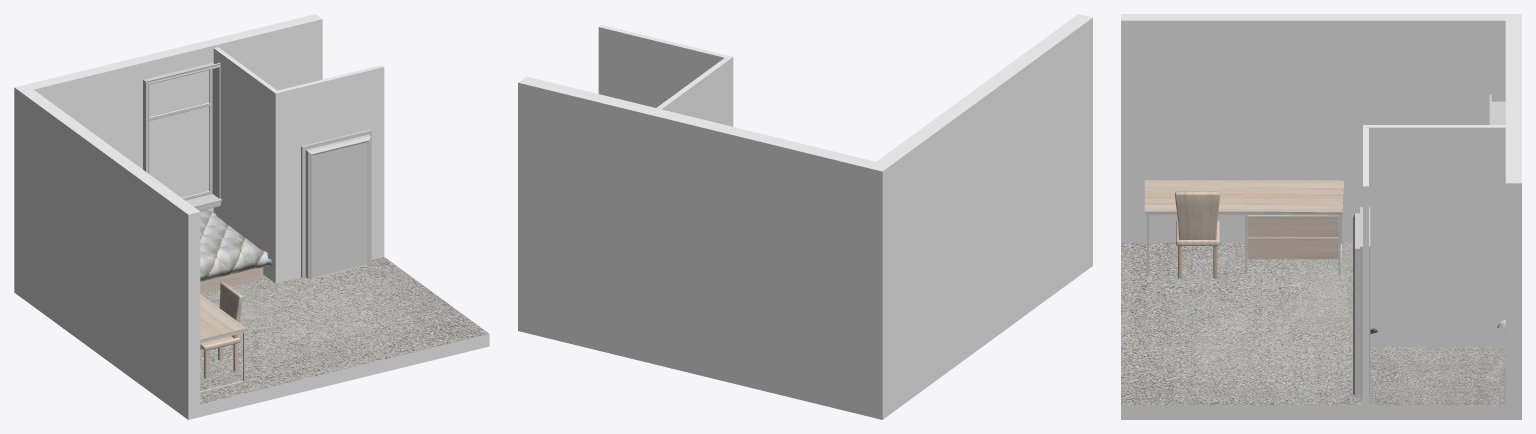
The model's file is suite1.glb.
3 renders of one model, left to right at view 1: azimuth 30°, elevation 25°; view 2: azimuth 150°, elevation 25°; view 3: azimuth 270°, elevation 25°, orthographic. The views are drawn at different scales.
Parts seen in each view (by area): view 1: Cube.007, Cube.001, Cube.006, window, Plane.001, Cube.005, Plane, Cube.002; view 2: Cube.007, Cube.001; view 3: Cube.007, Cube.001, Cube.008, Plane, Cube.005, Cube.006, Cube.010, Cube.009, Cube, window.
Boxes of the visible parts, box(x1,y1,x2,y2) form: Cube.007: box(14, 14, 489, 419); Cube.001: box(213, 47, 384, 283); Cube.006: box(301, 129, 371, 278); window: box(143, 63, 221, 210); Plane.001: box(200, 209, 273, 281); Cube.005: box(200, 296, 246, 393); Plane: box(200, 282, 242, 378); Cube.002: box(200, 267, 263, 294); Cube.007: box(518, 14, 1092, 419); Cube.001: box(598, 25, 733, 126); Cube.007: box(1121, 14, 1521, 419); Cube.001: box(1363, 125, 1505, 405); Cube.008: box(1244, 180, 1344, 274); Plane: box(1175, 191, 1220, 278); Cube.005: box(1144, 180, 1244, 273); Cube.006: box(1353, 207, 1370, 397); Cube.010: box(1243, 180, 1342, 273); Cube.009: box(1247, 237, 1338, 259); Cube: box(1247, 215, 1338, 237); window: box(1489, 94, 1505, 124).
Size of the model in its own units: 8.66 by 5.64 by 8.66.
Materials: 13 (6 with a texture image).
